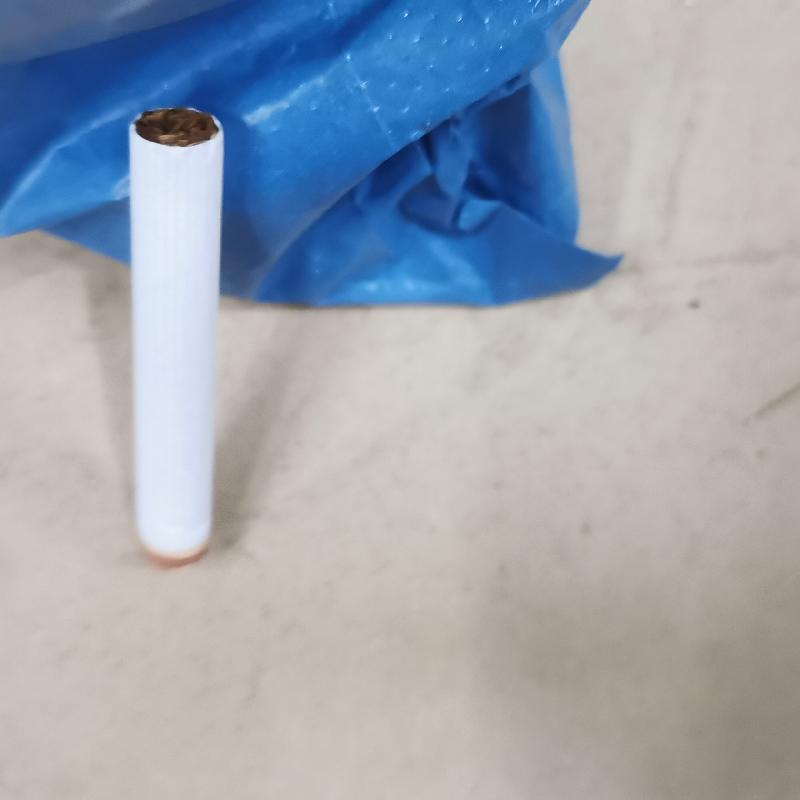cigarette: (118, 109, 232, 565)
